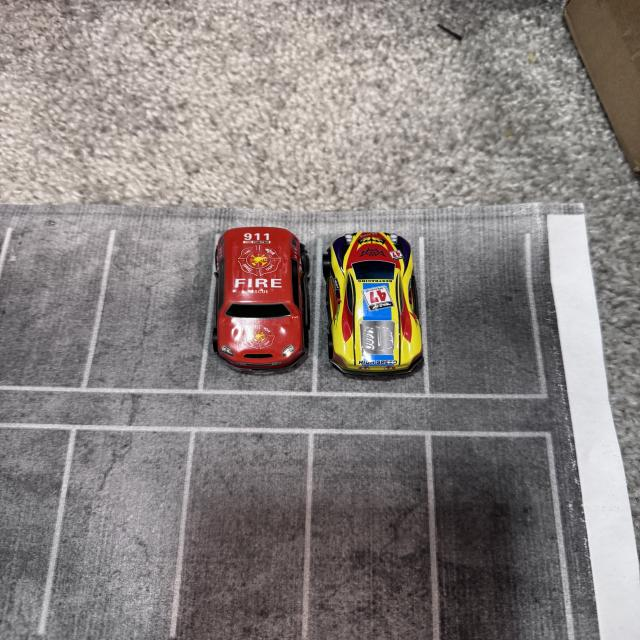Car: (313, 202, 450, 415), (190, 213, 315, 374)
